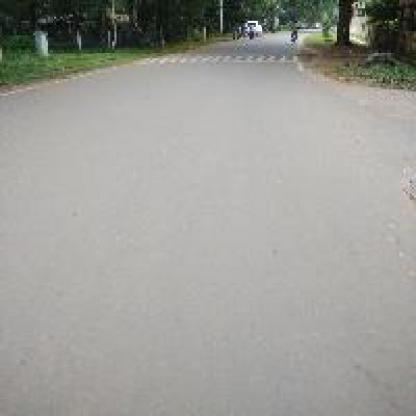Speed Bump: (129, 50, 302, 64)
